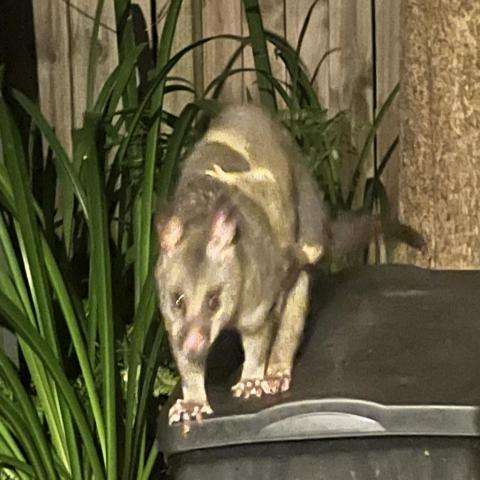small_animal: (152, 100, 428, 416)
